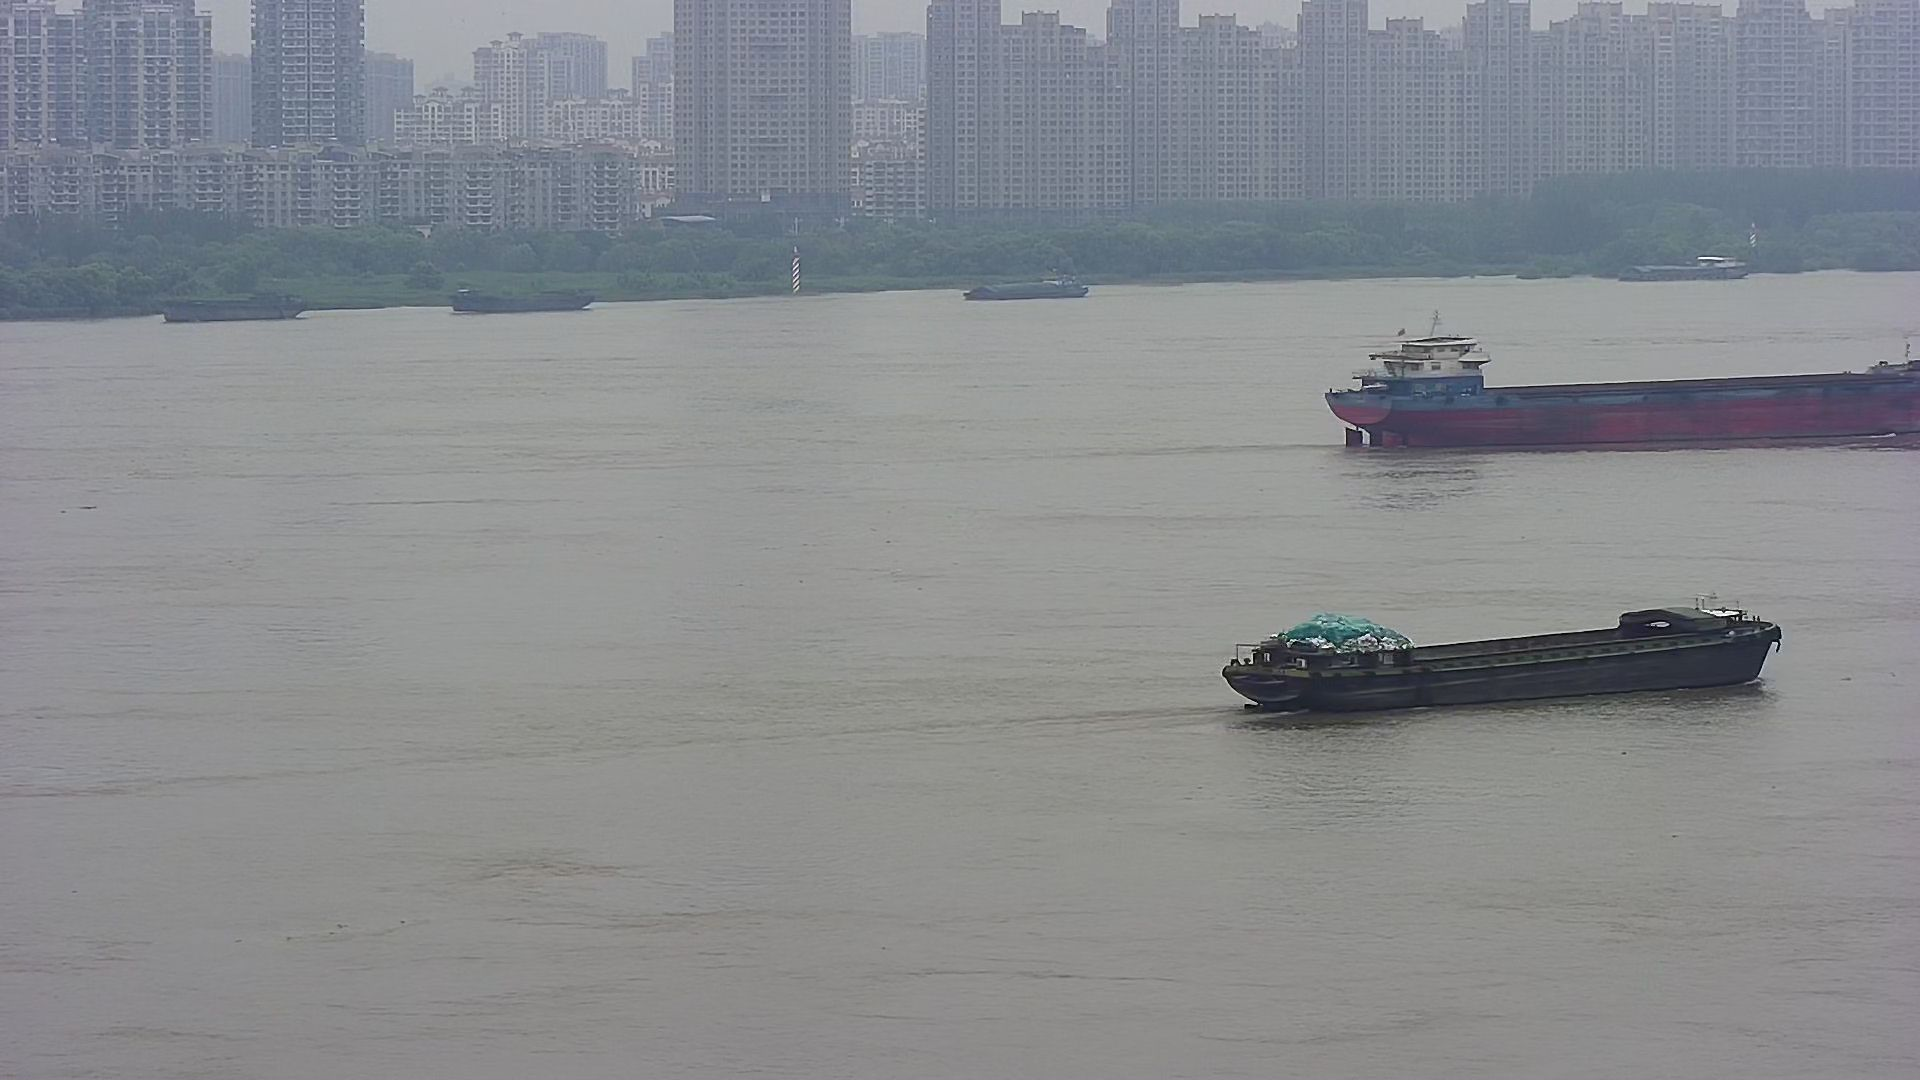ship: (1312, 316, 1920, 473), (1211, 592, 1785, 727), (150, 280, 323, 332), (1605, 243, 1767, 294), (440, 280, 616, 320), (949, 266, 1098, 311)
